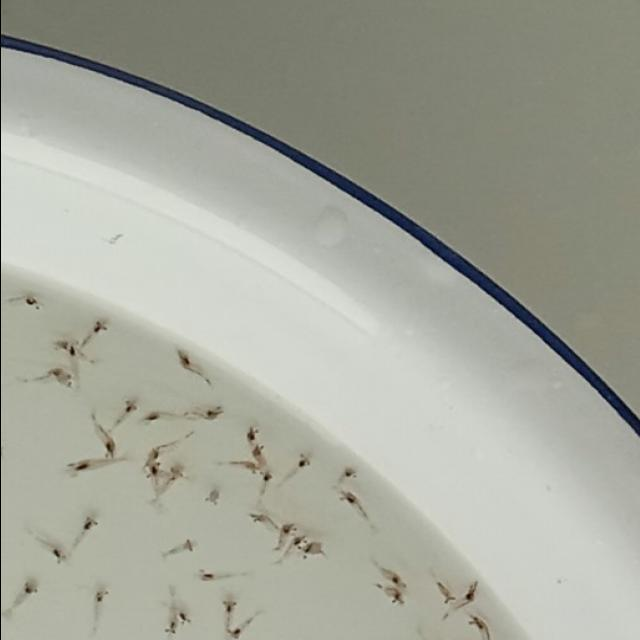shrimp-seed: (67, 459, 89, 478), (98, 440, 116, 460), (248, 510, 270, 526), (196, 566, 216, 583), (202, 490, 220, 508), (294, 452, 312, 470), (174, 350, 190, 370), (463, 584, 478, 604), (48, 548, 66, 564), (90, 589, 108, 605), (80, 518, 98, 534), (22, 296, 40, 312), (122, 400, 138, 418), (180, 539, 198, 554), (386, 591, 405, 605), (387, 575, 407, 588), (162, 621, 178, 637), (218, 599, 234, 615), (166, 466, 183, 481), (141, 411, 158, 426), (21, 582, 39, 596), (90, 320, 108, 334), (302, 540, 320, 554), (47, 366, 63, 381), (464, 614, 481, 628), (338, 492, 356, 505), (174, 612, 190, 626), (226, 625, 242, 639), (278, 523, 294, 537), (290, 532, 306, 546), (341, 467, 357, 481), (438, 592, 454, 606), (244, 428, 258, 443), (204, 408, 220, 421), (64, 344, 78, 358), (249, 446, 263, 460), (52, 339, 67, 352), (146, 465, 161, 478), (259, 470, 275, 482), (147, 445, 160, 459), (247, 462, 260, 476)
